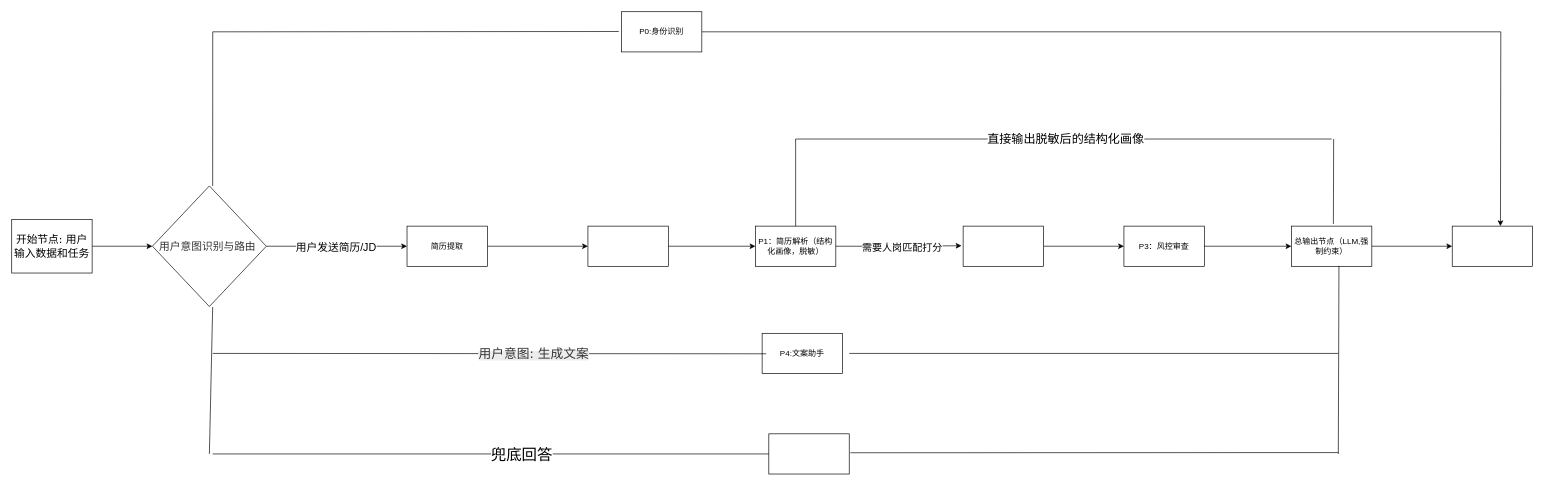
Some shapes in this 1544 by 486 pixel diagram are drawn without their labels. The shapes that lost their labels are listed below. From the top down, each one's box as (x1, y1, x2, y2) in pixels, then its label:
(587, 225, 668, 266): 轻量提取
(962, 225, 1044, 266): P2:人岗匹配评估
(1452, 225, 1533, 266): 结束节点
(768, 433, 849, 474): P5：无关内容兜底回答（直接回复 ）
